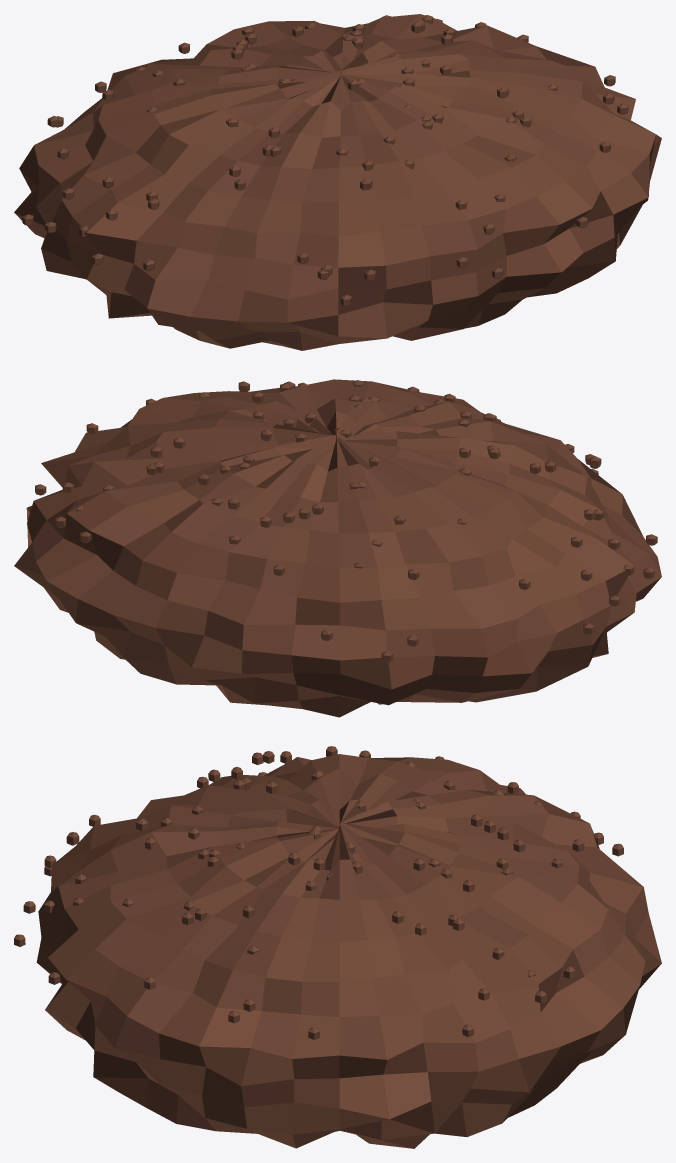
File: CocoaPowder.glb
3 views of the same model, one above another, from view 1: azimuth 30°, elevation 25°; view 2: azimuth 150°, elevation 25°; view 3: azimuth 270°, elevation 25° (orthographic). The views are drawn at different scales.
Parts seen in each view (by area): view 1: CocoaPowder; view 2: CocoaPowder; view 3: CocoaPowder.
Boxes of the visible parts, x1=… form: CocoaPowder: x1=14, y1=14, x2=661, y2=350; CocoaPowder: x1=14, y1=379, x2=661, y2=717; CocoaPowder: x1=14, y1=746, x2=661, y2=1148.
Size of what is drawn, in the model's own units: 0.0733 by 0.0279 by 0.0642.
